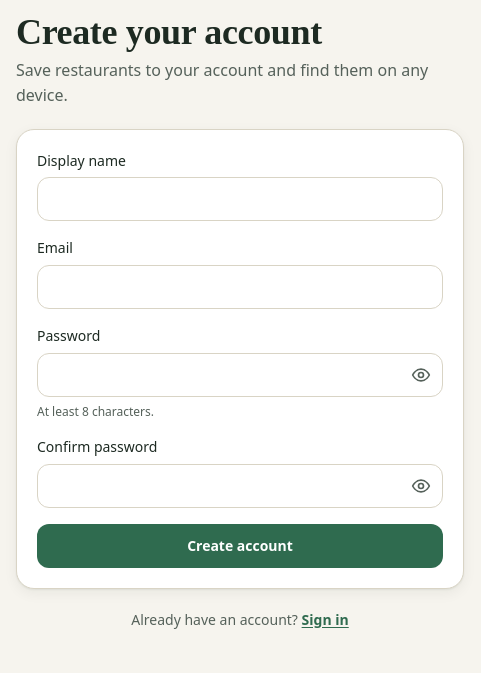
Test: RegisterPage › rejects mismatched passwords
Type "Sam" into the field labelled "Display name".
click(240, 199); type("Sam")  # box [37, 177, 443, 221]
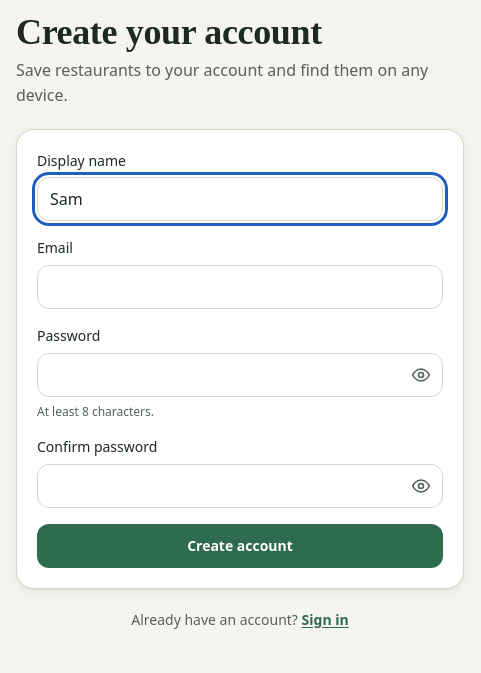
Type "sam@example.com" into the field labelled "Email".
click(240, 287); type("sam@example.com")  # box [37, 265, 443, 309]
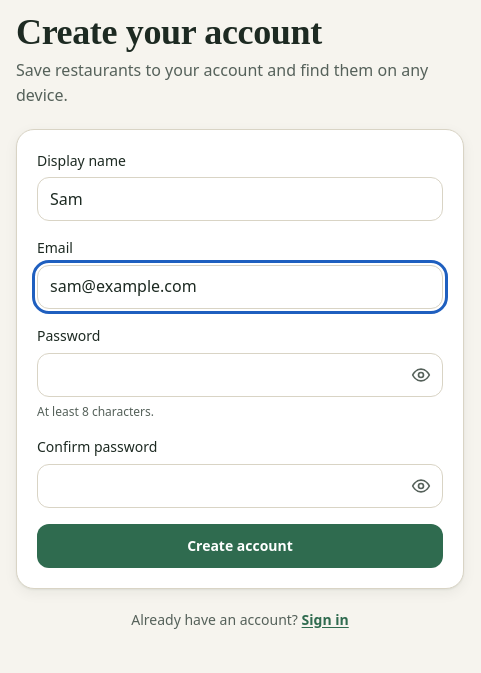
Type "longenough" into the password field labelled "Password".
click(240, 375); type("longenough")  # box [37, 353, 443, 397]
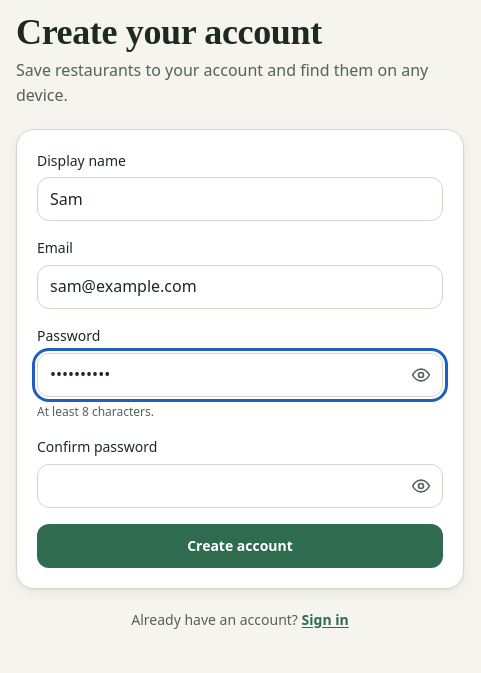
Type "different!!" into the password field labelled "Confirm password".
click(240, 486); type("different!!")  # box [37, 464, 443, 508]
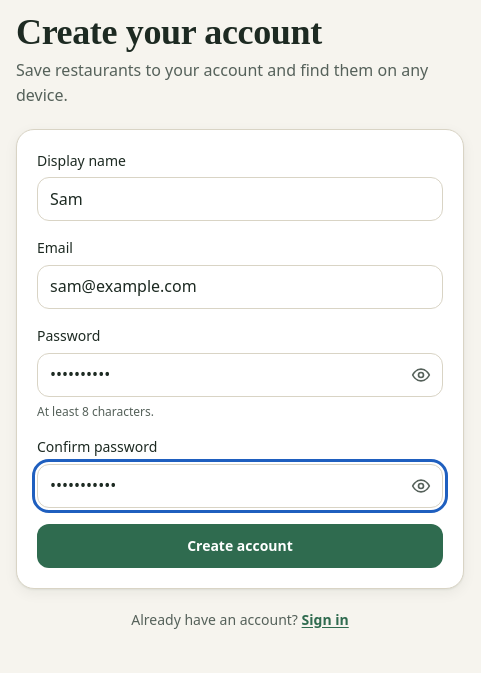
Click the button "Create account".
click(240, 546)  # box [37, 524, 443, 568]
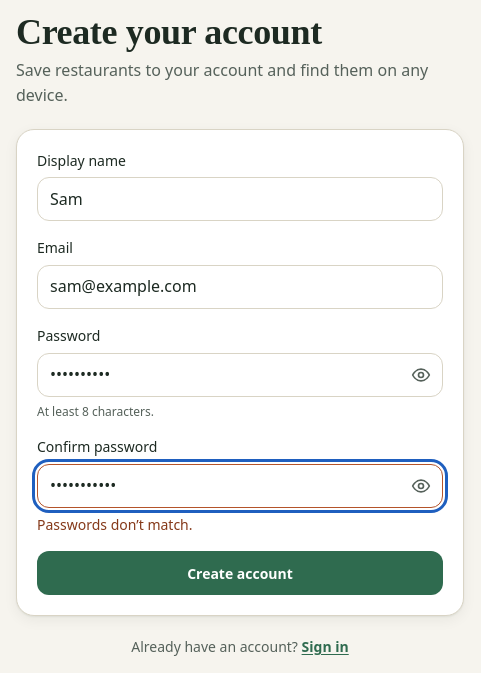
Expected: the text "Passwords don’t match." is shown, [37, 515, 192, 534]
